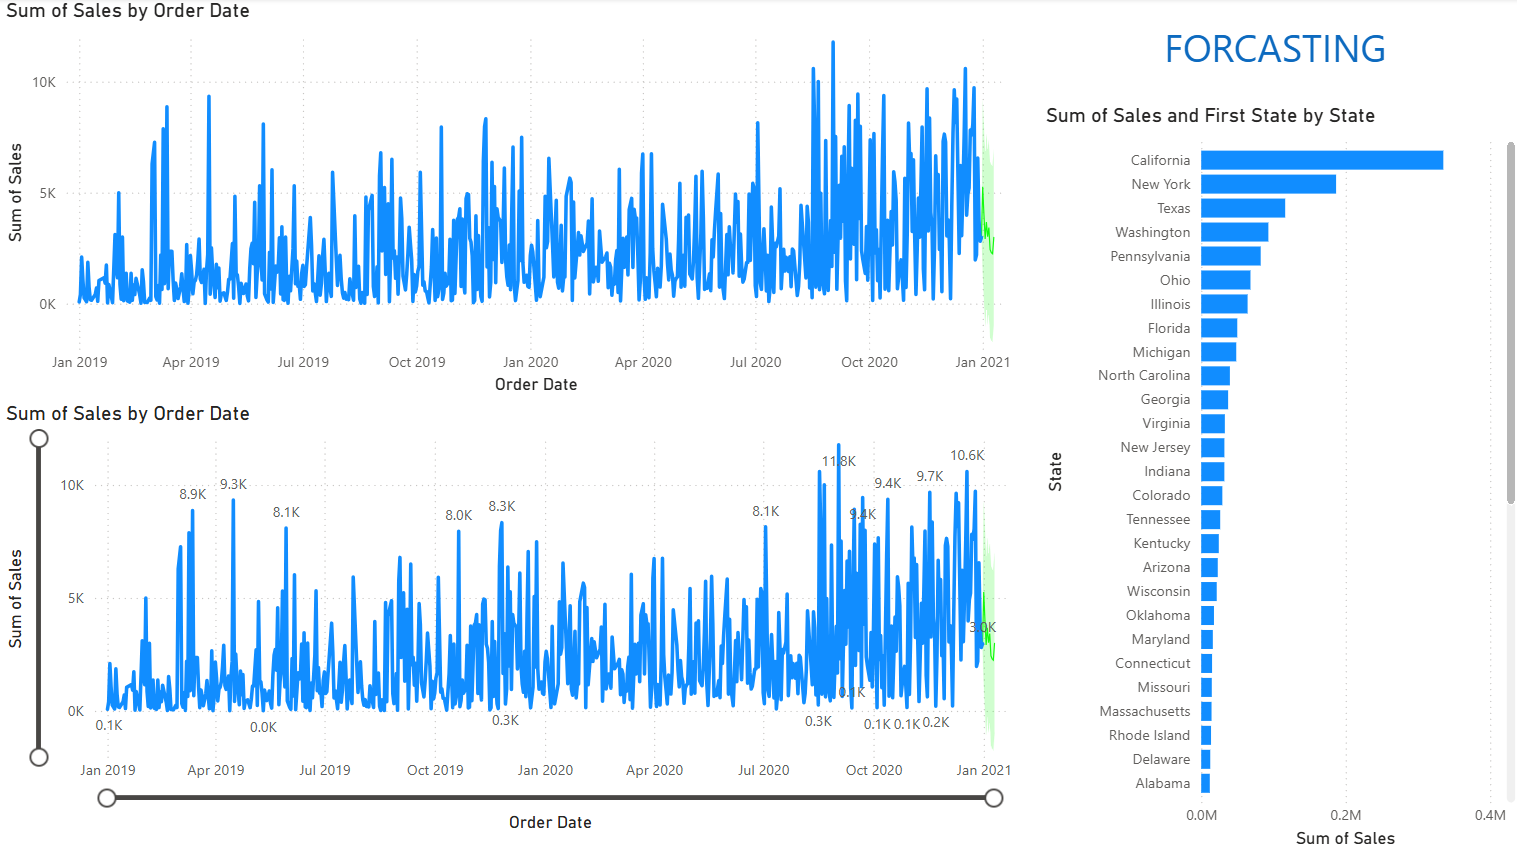

Layout of this report page (visuals, bound fields, positions):
{"tool":"powerbi","page":{"name":"Page 2","canvas":[1280,720],"ordinal":1},"visuals":[{"type":"lineChart","fields":{"Y":["Sum(SuperStore_Sales_Dataset.Sales)"],"Category":["SuperStore_Sales_Dataset.Order Date"]},"box":[0,338.4,865.1,366.3],"z":0},{"type":"lineChart","fields":{"Y":["Sum(SuperStore_Sales_Dataset.Sales)"],"Category":["SuperStore_Sales_Dataset.Order Date"]},"box":[0,0,865.1,338.4],"z":1000},{"type":"clusteredBarChart","fields":{"Y":["Sum(SuperStore_Sales_Dataset.Sales)"],"Category":["SuperStore_Sales_Dataset.State"]},"box":[874.4,88.4,405.8,631.4],"z":2000},{"type":"textbox","box":[865.1,15.1,415.1,55.8],"z":3000}]}

Visuals, with their boxes in screenshot pixels (x1, y1, x2, y2), scaled from the page's 1280x720 canvas onto the 1517x851 screenshot:
lineChart - Sum(SuperStore_Sales_Dataset.Sales) x SuperStore_Sales_Dataset.Order Date: [0, 400, 1025, 833]
lineChart - Sum(SuperStore_Sales_Dataset.Sales) x SuperStore_Sales_Dataset.Order Date: [0, 0, 1025, 400]
clusteredBarChart - Sum(SuperStore_Sales_Dataset.Sales) x SuperStore_Sales_Dataset.State: [1036, 104, 1516, 850]
textbox: [1025, 18, 1516, 84]
